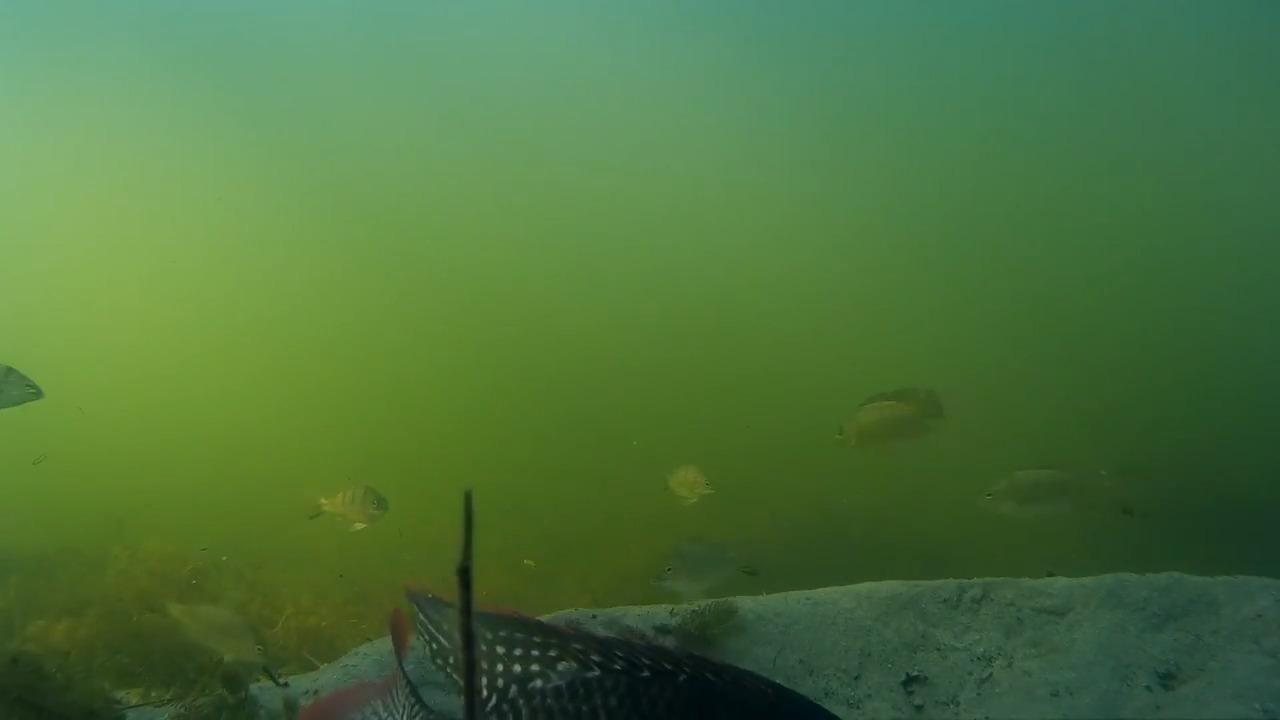Tilapia: (309, 578, 844, 720), (640, 520, 783, 624), (162, 590, 301, 676), (979, 460, 1124, 542), (829, 378, 948, 462), (300, 474, 411, 552), (0, 352, 93, 444), (658, 464, 725, 508)
